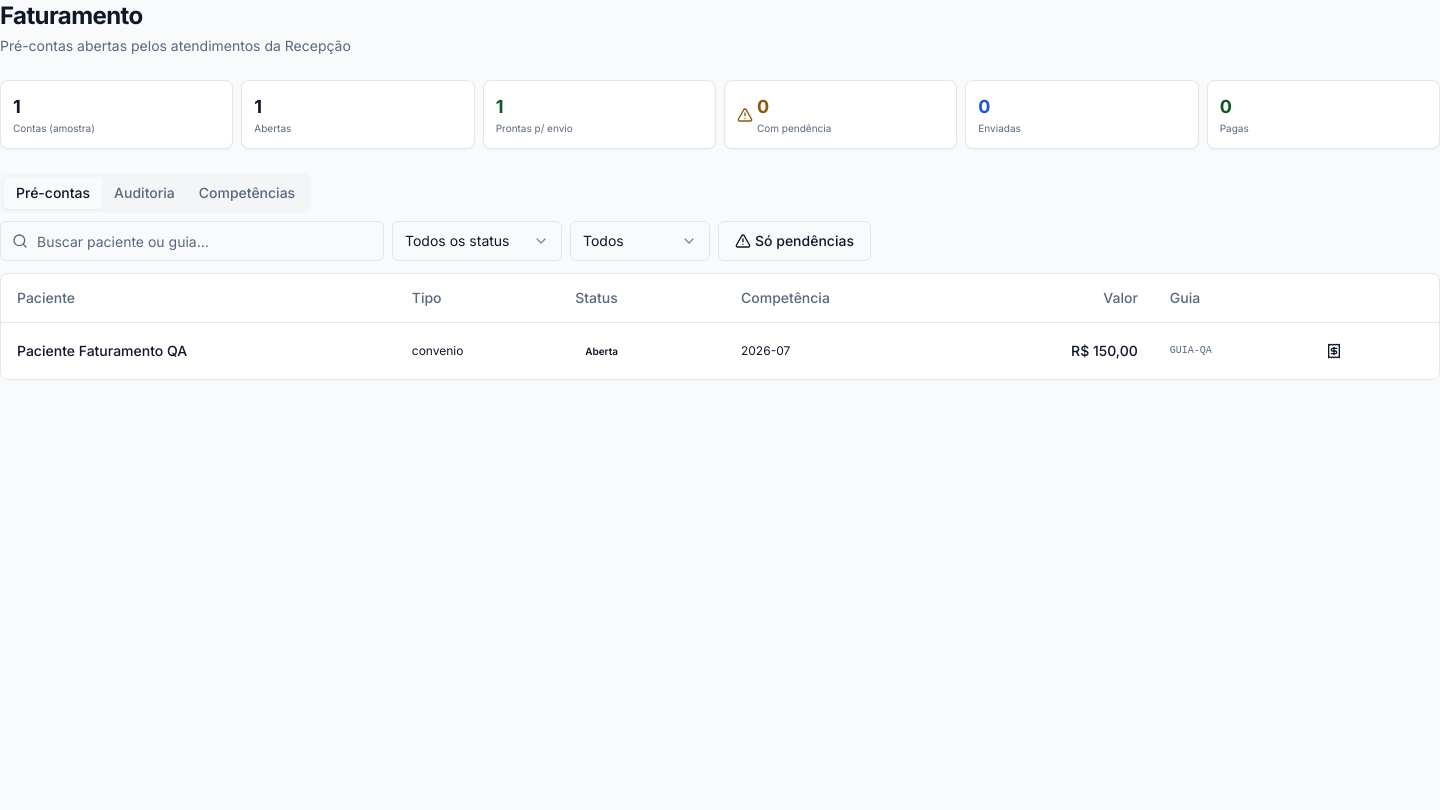
Test: BillingAccountsPage — contrato canônico de pré-contas › carrega somente billing_accounts e calcula indicadores da mesma resposta
expect the text "Paciente Faturamento QA" is shown: met, box [1,322,396,378]
Step 1. Click the button titled "Conferir" → (1334, 350), box [1314,338,1354,362]
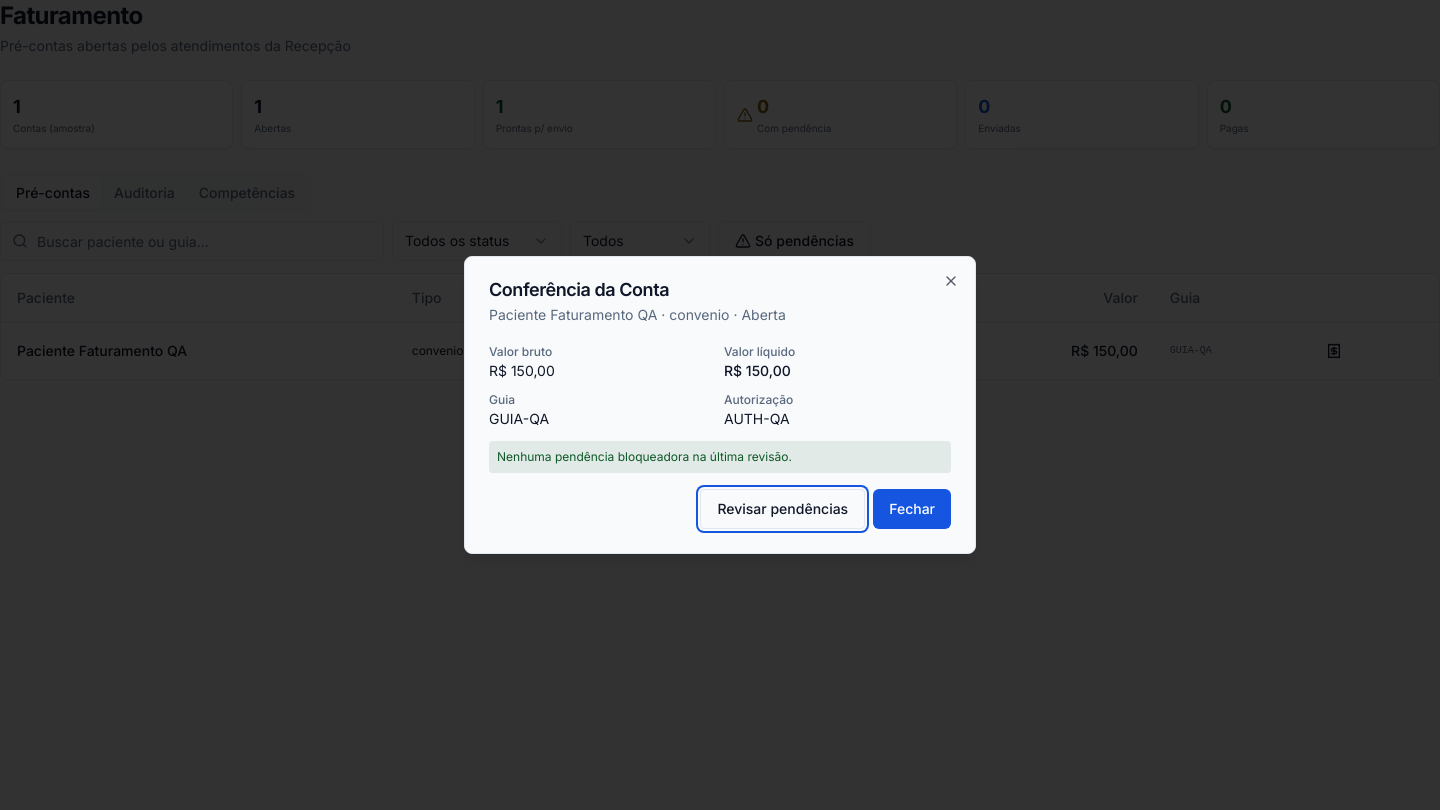
expect the dialog "Conferência da Conta" is shown: met, box [464,256,976,554]
expect the button "Revisar pendências" is enabled: met, box [700,489,865,529]
